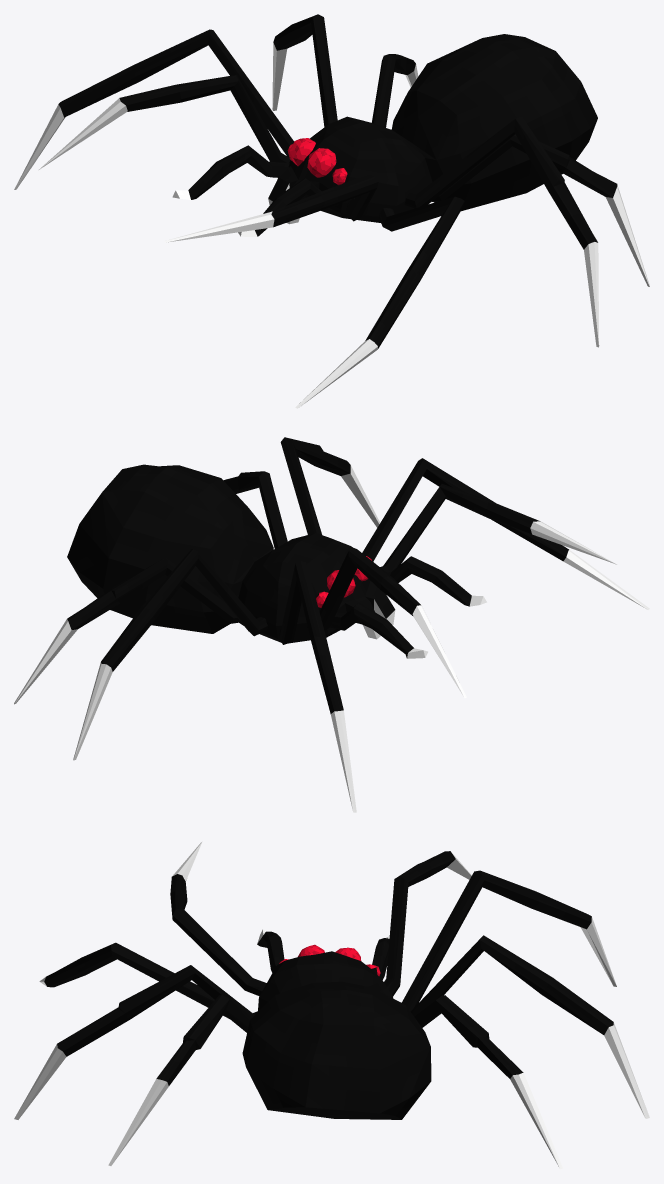
File: spiderAttack4.obj
3 renders of one model, top to bottom at view 1: azimuth 30°, elevation 25°; view 2: azimuth 150°, elevation 25°; view 3: azimuth 270°, elevation 25°, orthographic. The views are drawn at different scales.
Parts seen in each view (by area): view 1: Cube.004_Cube.005; view 2: Cube.004_Cube.005; view 3: Cube.004_Cube.005.
Boxes of the visible parts, <box> form: Cube.004_Cube.005: <box>14,14,649,408</box>; Cube.004_Cube.005: <box>14,437,649,812</box>; Cube.004_Cube.005: <box>14,842,649,1169</box>.
Bounding box in the file's own units: 30.03 × 10.65 × 34.73.
